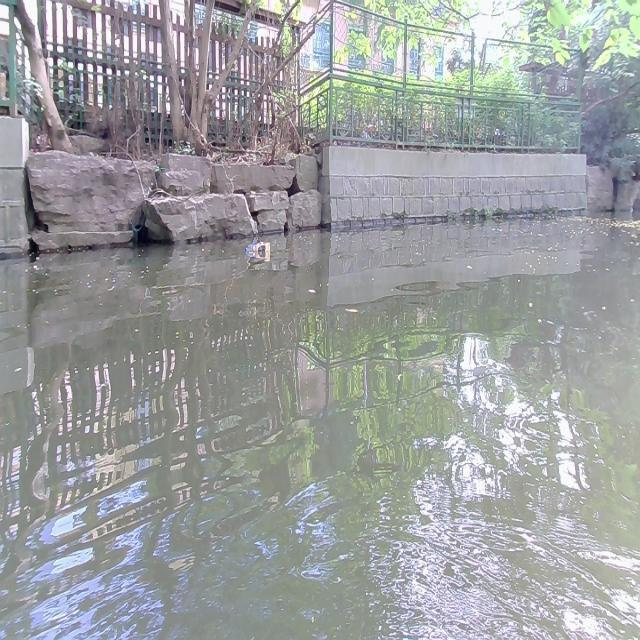bottle: (243, 242, 264, 255), (253, 242, 271, 253)
